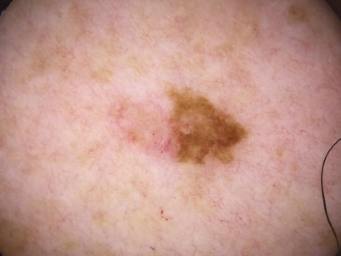melanoma: (110, 90, 245, 163)
